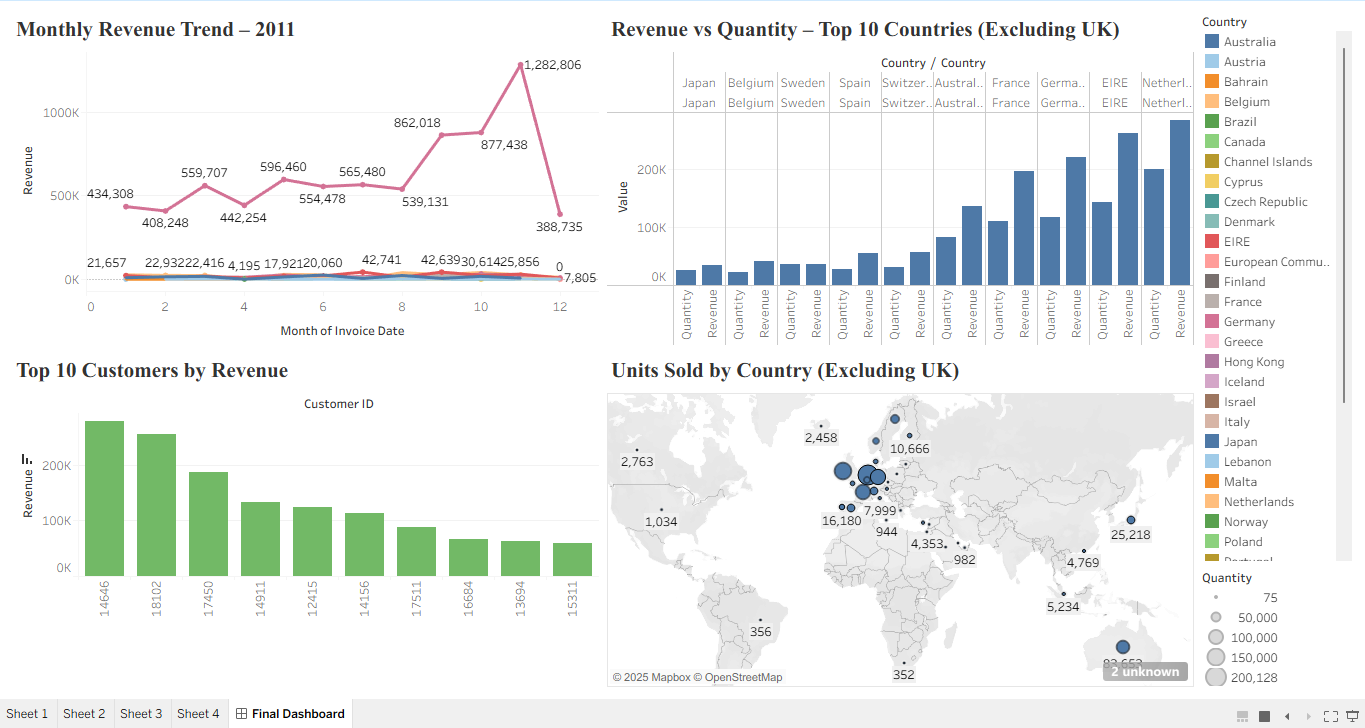

Layout of this report page (visuals, bound fields, positions):
{"tool":"tableau","page":{"name":"Final Dashboard","canvas":[1000,1000],"units":"permille","ordinal":0},"visuals":[{"type":"worksheet","title":"Sheet 1","mark":"Automatic","rows":["Calculation_926897130360143874"],"cols":["InvoiceDate"],"box":[6.9,14.7,401.7,485.3]},{"type":"worksheet","title":"Sheet 2","mark":"Automatic","cols":["Country","Country"],"box":[408.7,14.7,445.9,485.3]},{"type":"legend","title":"Sheet 1","param":"[federated.1dvy3rm11ordjv1e7gjhr0a3vegs].[none:Country:nk]","box":[854.5,14.7,138.5,739]},{"type":"worksheet","title":"Sheet 3","mark":"Automatic","rows":["Calculation_926897130360143874"],"cols":["CustomerID"],"box":[6.9,500,401.7,485.3]},{"type":"worksheet","title":"Sheet 4","mark":"Automatic","box":[408.7,500,445.9,485.3]},{"type":"legend","title":"Sheet 4","param":"[federated.1dvy3rm11ordjv1e7gjhr0a3vegs].[sum:Quantity:qk]","box":[854.5,753.7,138.5,231.6]}]}

Visuals, with their boxes on the dashboard's canvas, which has no fixed pixel size, in thousandths of its width and height (x1, y1, x2, y2). These are canvas units, not pixel positions in the 1365x728 screenshot, which may show the page scaled, cropped or inside an application window:
"Sheet 1" worksheet: (left=7, top=15, right=409, bottom=500)
"Sheet 2" worksheet: (left=409, top=15, right=855, bottom=500)
"Sheet 1" legend: (left=854, top=15, right=993, bottom=754)
"Sheet 3" worksheet: (left=7, top=500, right=409, bottom=985)
"Sheet 4" worksheet: (left=409, top=500, right=855, bottom=985)
"Sheet 4" legend: (left=854, top=754, right=993, bottom=985)
